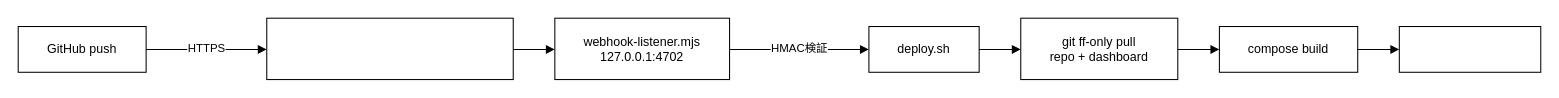
The diagram is 1559 pixels wide and 98 high, and some of its shapes have lost their labels. Each missing label, with the centre of its shape:
"Apache /services/rosweb-deploy-webhook" belongs at point 389,48.
"compose up -d" belongs at point 1469,48.
